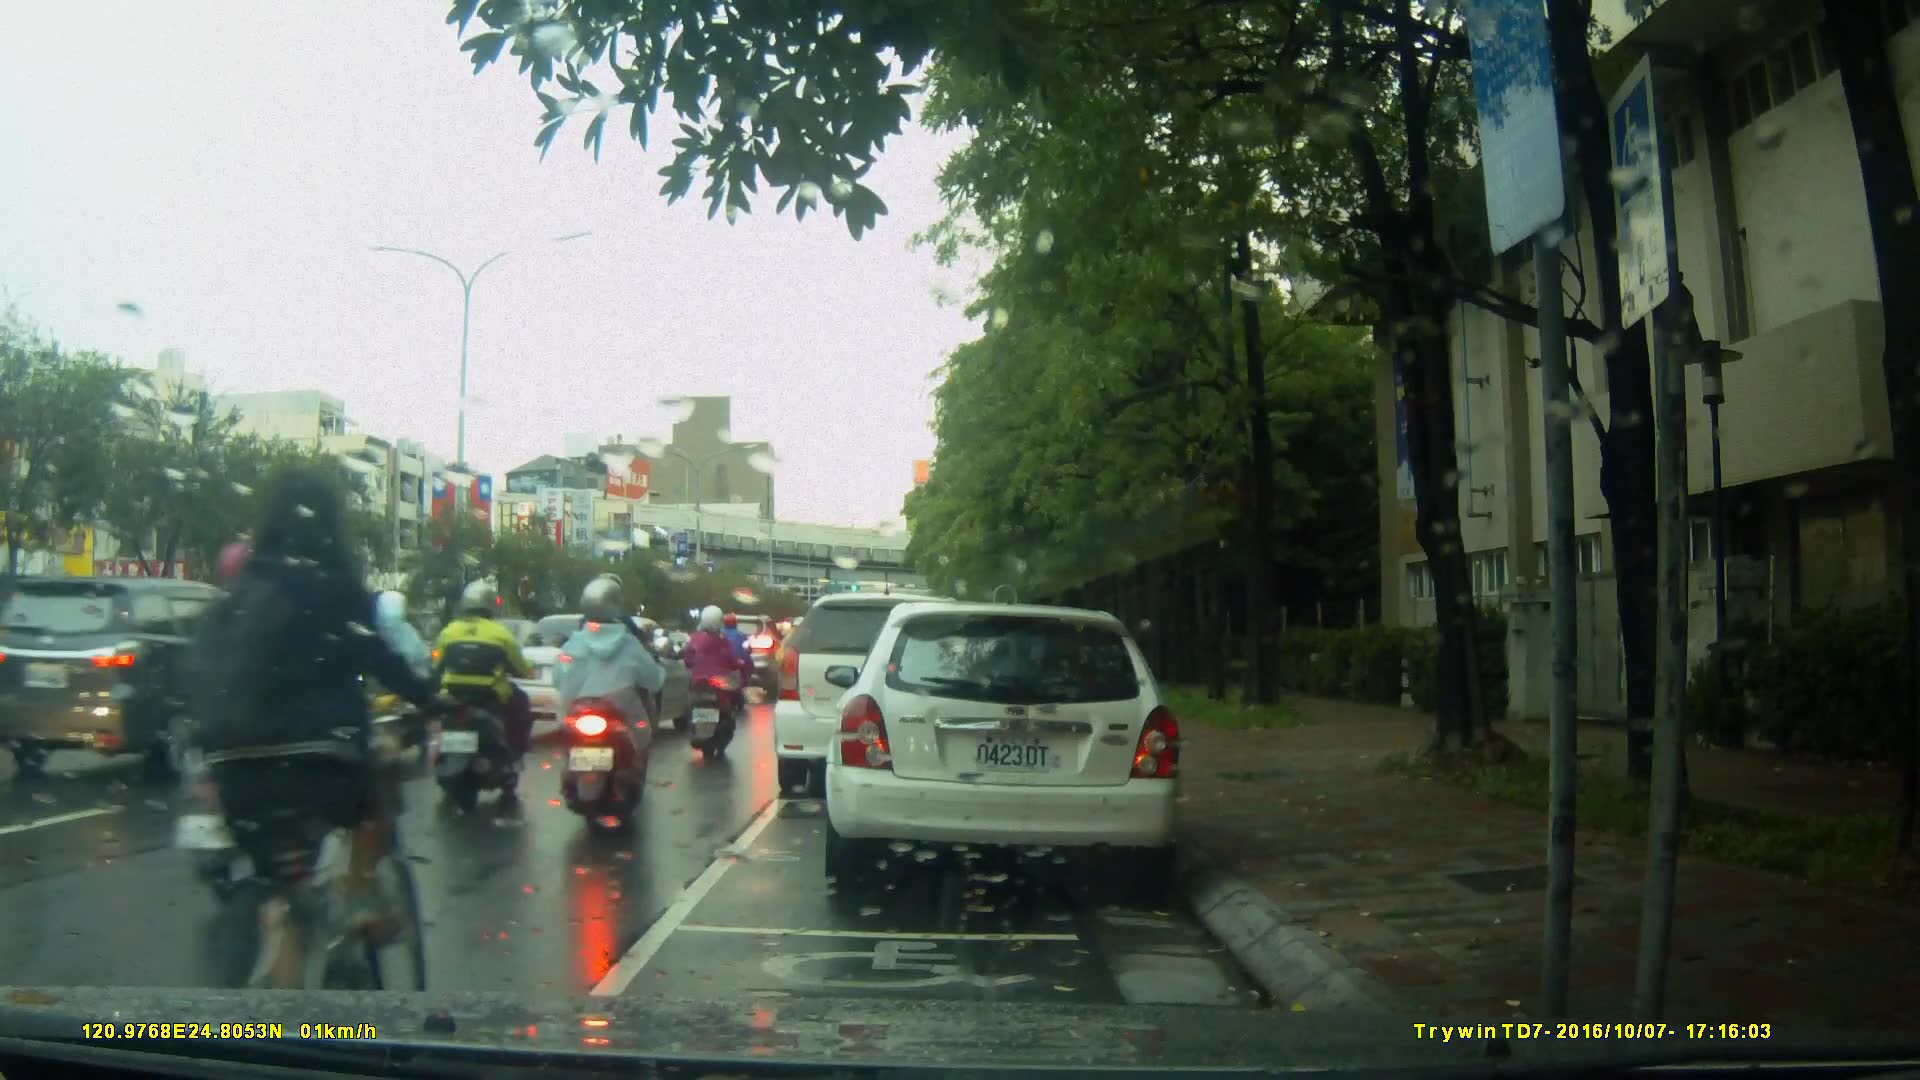rider: (191, 462, 445, 1034), (188, 536, 339, 922), (560, 574, 658, 839), (434, 579, 545, 805), (579, 575, 664, 787), (354, 585, 447, 768), (677, 608, 742, 770), (713, 610, 753, 696)
vehicle: (822, 604, 1188, 883), (6, 573, 321, 784), (774, 595, 995, 802), (498, 611, 707, 744), (690, 614, 793, 702)
